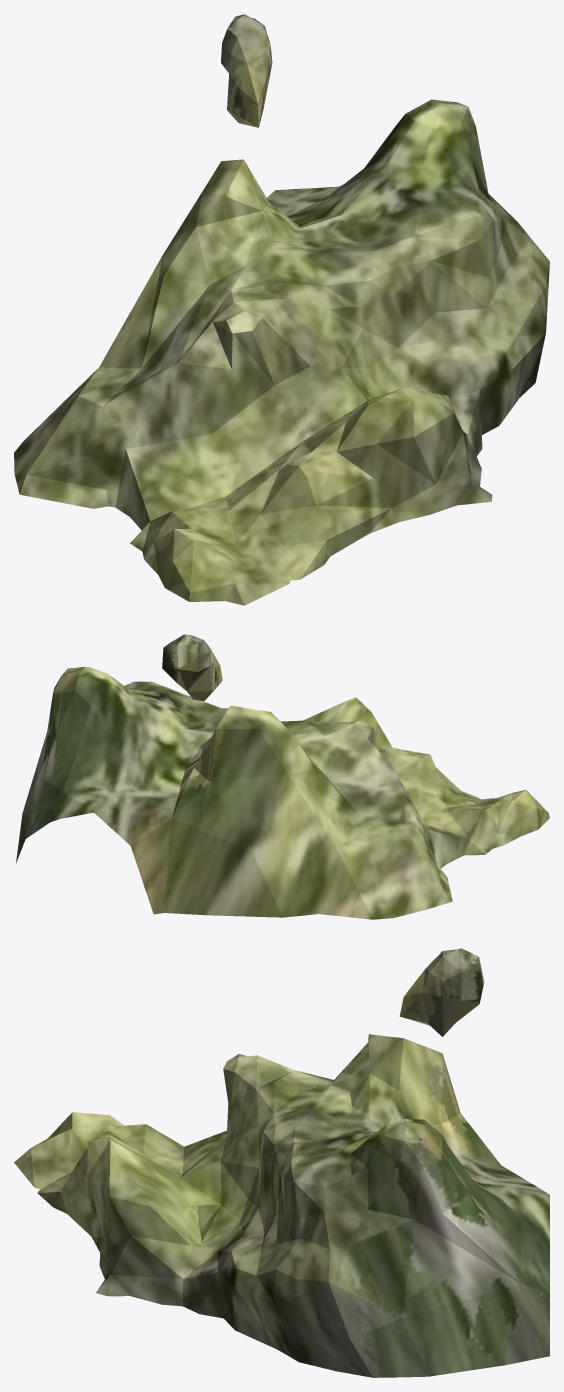
The picture shows the model from 3 angles, top to bottom: view 1: azimuth 30°, elevation 25°; view 2: azimuth 150°, elevation 25°; view 3: azimuth 270°, elevation 25°; orthographic projection. The views are drawn at different scales.
Bounding box in the file's own units: 2.37 × 1.49 × 2.24.
Materials: 2 (2 with a texture image).
